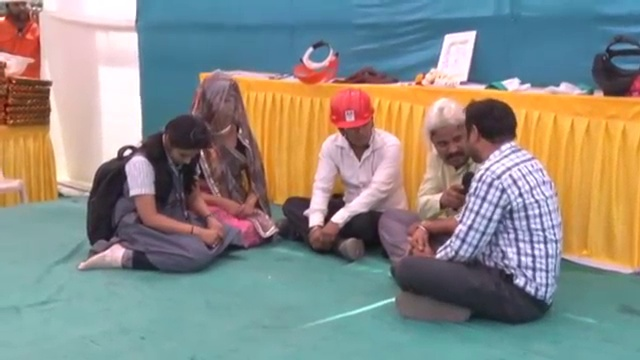helmet: (327, 89, 379, 132), (0, 51, 36, 80)
helmet_off: (463, 98, 521, 172), (154, 113, 211, 176), (191, 76, 248, 138), (421, 97, 471, 167), (4, 0, 33, 25)
helmet_on: (328, 86, 381, 154)
person: (391, 92, 566, 326), (278, 81, 413, 263), (79, 115, 229, 275), (182, 67, 277, 254), (380, 97, 479, 258), (0, 0, 48, 83)
